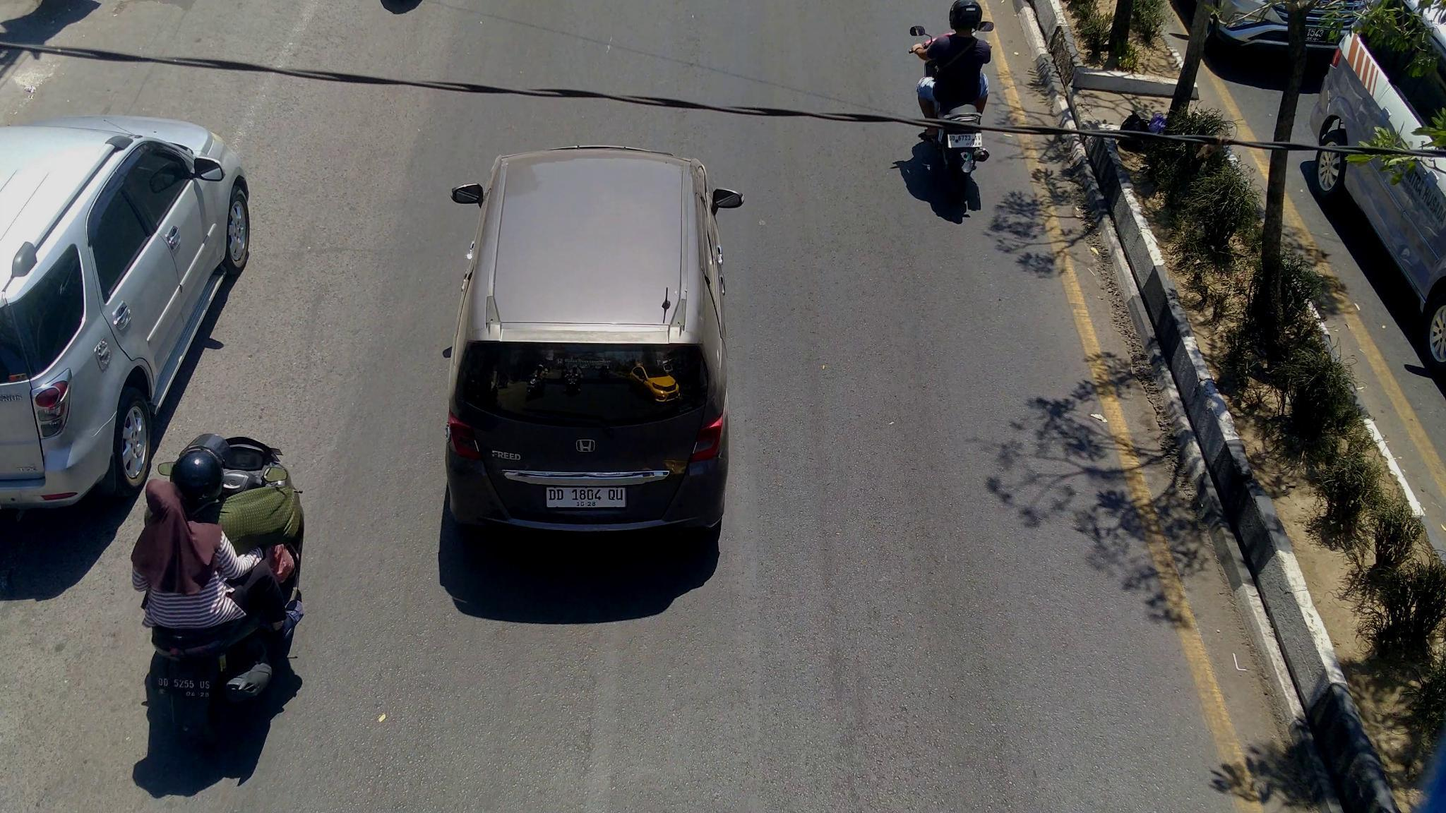Helmet: (167, 429, 231, 520), (946, 0, 989, 34)
bike: (145, 434, 302, 717), (909, 19, 1001, 199)
no-helmet: (131, 471, 193, 540)
number-plate: (145, 669, 218, 709), (946, 131, 986, 150)
rider: (131, 472, 305, 647), (161, 435, 304, 554), (913, 0, 995, 128)
